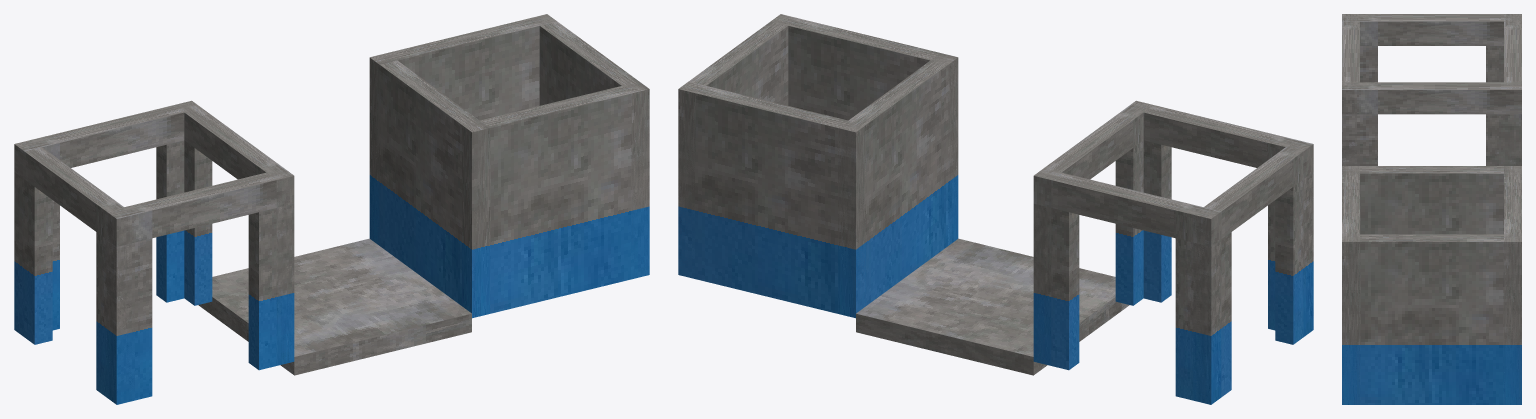
Rendered from real_gred.glb.
The picture shows the model from 3 angles, left to right: view 1: azimuth 30°, elevation 25°; view 2: azimuth 150°, elevation 25°; view 3: azimuth 270°, elevation 25°; orthographic projection. The views are drawn at different scales.
Visible parts, largest first — view 1: Cube.001, Cube.007, Cube.005, Cube.009, Cube.008, Cube.004, Cube.010, Cube.002, Cube.006; view 2: Cube.004, Cube.005, Cube.002, Cube.009, Cube.008, Cube.001, Cube.007, Cube.010, Cube.006; view 3: Cube.006, Cube.005, Cube.010, Cube.008, Cube.004, Cube.001, Cube.007, Cube.002.
Boxes of the visible parts, x1,y1,x2,y2 form: Cube.001: (462, 84, 649, 318); Cube.007: (106, 168, 294, 404); Cube.005: (370, 55, 489, 317); Cube.009: (198, 238, 471, 375); Cube.008: (14, 144, 134, 404); Cube.004: (369, 14, 556, 245); Cube.010: (174, 104, 294, 365); Cube.002: (14, 100, 196, 330); Cube.006: (530, 14, 649, 278); Cube.004: (678, 81, 865, 313); Cube.005: (838, 53, 957, 318); Cube.002: (1033, 168, 1221, 404); Cube.009: (856, 238, 1129, 375); Cube.008: (1193, 143, 1313, 403); Cube.001: (771, 14, 958, 244); Cube.007: (1131, 100, 1313, 337); Cube.010: (1033, 103, 1153, 365); Cube.006: (678, 14, 797, 276); Cube.006: (1342, 234, 1521, 404); Cube.005: (1342, 166, 1521, 234); Cube.010: (1342, 82, 1521, 165); Cube.008: (1342, 14, 1521, 82); Cube.004: (1504, 166, 1521, 404); Cube.001: (1342, 166, 1359, 404); Cube.007: (1342, 14, 1359, 165); Cube.002: (1504, 14, 1521, 165).
Bounding box in the file's own units: 6 × 2.15 × 2.
8 materials, 8 textured.
